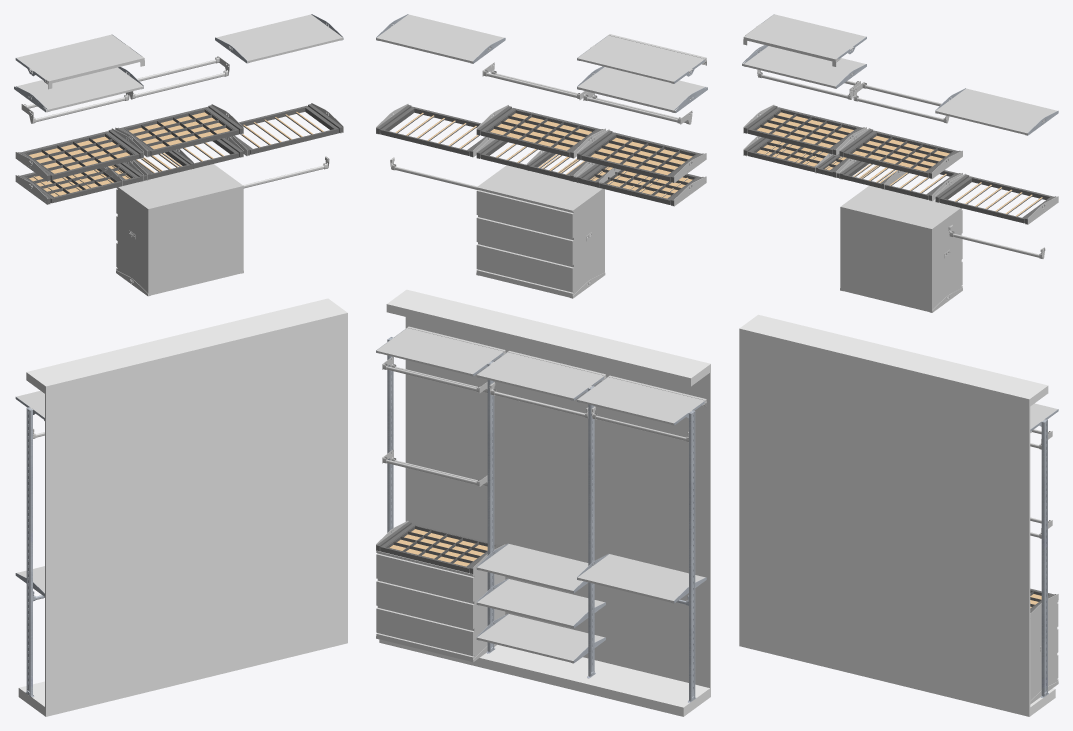
3 views of the same model, side by side, from view 1: azimuth 30°, elevation 25°; view 2: azimuth 150°, elevation 25°; view 3: azimuth 330°, elevation 25° (orthographic). The views are drawn at different scales.
Parts seen in each view (by area): view 1: Geom3D_, Geom3D_组件#4_柜子 copy 001, Geom3D (×9), Geom3D_组件#15 (×2), Geom3D_组件#16, Geom3D_组件#2, Geom3D_组件#11_双衣杆 copy 002 (×2); view 2: Geom3D_, Geom3D_组件#4_柜子 copy 001 (×2), Geom3D_组件#15 (×6), Geom3D (×12), Geom3D_组件#16 (×4), Geom3D_组件#2 (×4), Geom3D_组件#11_双衣杆 copy 002 (×4); view 3: Geom3D_, Geom3D_组件#4_柜子 copy 001 (×2), Geom3D (×10), Geom3D_组件#15 (×2), Geom3D_组件#16, Geom3D_组件#2, Geom3D_组件#11_双衣杆 copy 002 (×2).
Boxes of the visible parts, left/top/right/bottom form: Geom3D_: left=18, top=298, right=347, bottom=716; Geom3D_组件#4_柜子 copy 001: left=116, top=164, right=243, bottom=296; Geom3D (×9): left=17, top=104, right=342, bottom=204; Geom3D_组件#15 (×2): left=17, top=14, right=343, bottom=111; Geom3D_组件#16: left=16, top=34, right=144, bottom=89; Geom3D_组件#2: left=25, top=407, right=34, bottom=697; Geom3D_组件#11_双衣杆 copy 002 (×2): left=21, top=56, right=229, bottom=123; Geom3D_: left=379, top=289, right=710, bottom=716; Geom3D_组件#4_柜子 copy 001 (×2): left=376, top=165, right=605, bottom=662; Geom3D_组件#15 (×6): left=376, top=14, right=705, bottom=663; Geom3D (×12): left=376, top=105, right=703, bottom=573; Geom3D_组件#16 (×4): left=376, top=34, right=706, bottom=424; Geom3D_组件#2 (×4): left=387, top=337, right=696, bottom=702; Geom3D_组件#11_双衣杆 copy 002 (×4): left=382, top=62, right=692, bottom=486; Geom3D_: left=739, top=314, right=1055, bottom=716; Geom3D_组件#4_柜子 copy 001 (×2): left=840, top=185, right=1058, bottom=704; Geom3D (×10): left=744, top=105, right=1056, bottom=224; Geom3D_组件#15 (×2): left=743, top=46, right=1057, bottom=135; Geom3D_组件#16: left=743, top=14, right=865, bottom=66; Geom3D_组件#2: left=1040, top=419, right=1048, bottom=697; Geom3D_组件#11_双衣杆 copy 002 (×2): left=757, top=69, right=949, bottom=123.
Bounding box in the file's own units: 2.73 × 5.47 × 0.5216.
4 materials, 1 textured.
